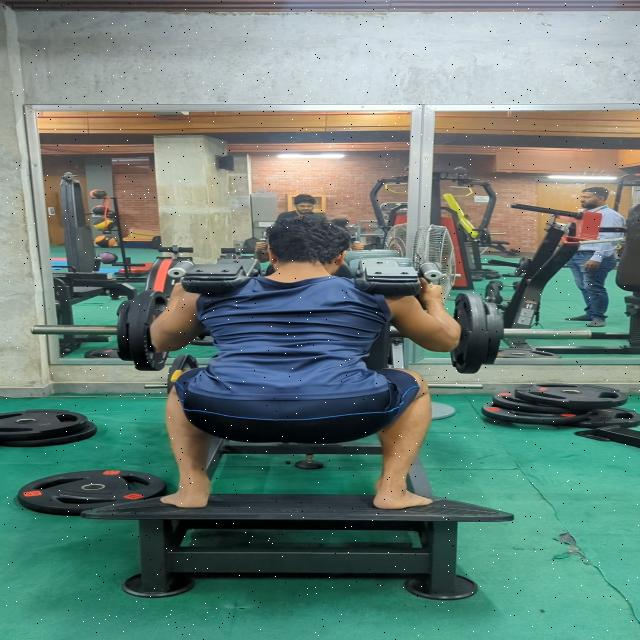Normal_SquatsWithBarbell: (95, 176, 504, 541)
